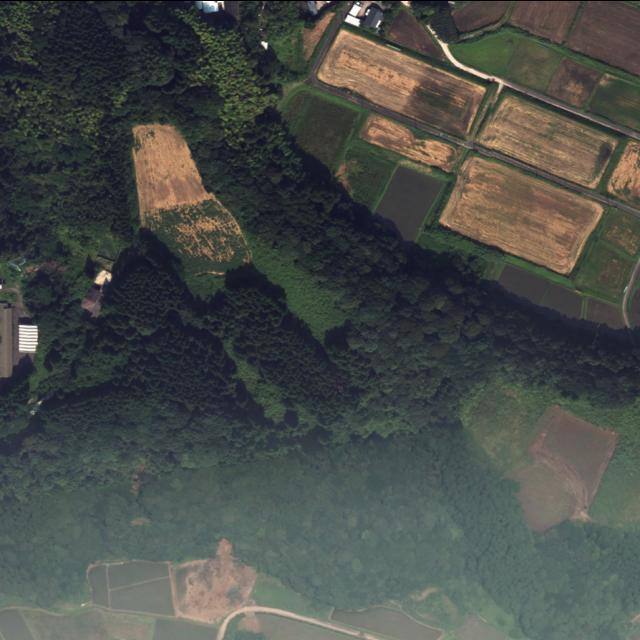landslide: (132, 122, 251, 274), (175, 539, 257, 624)
